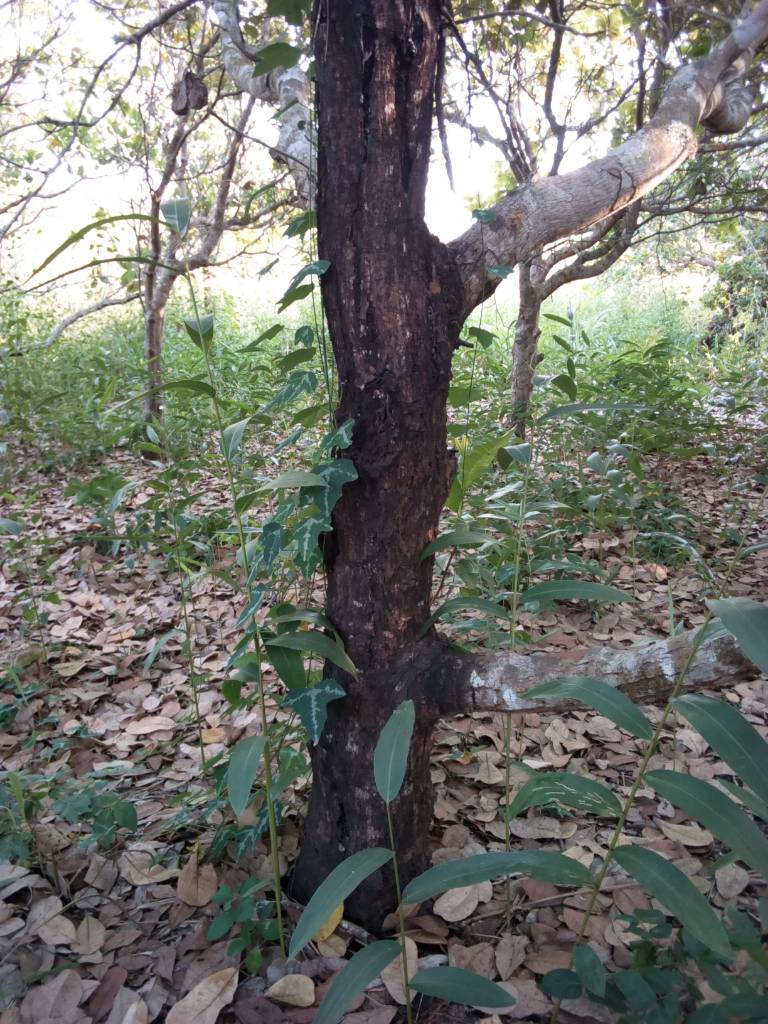Gommose: (332, 292, 454, 639), (391, 642, 474, 708)
